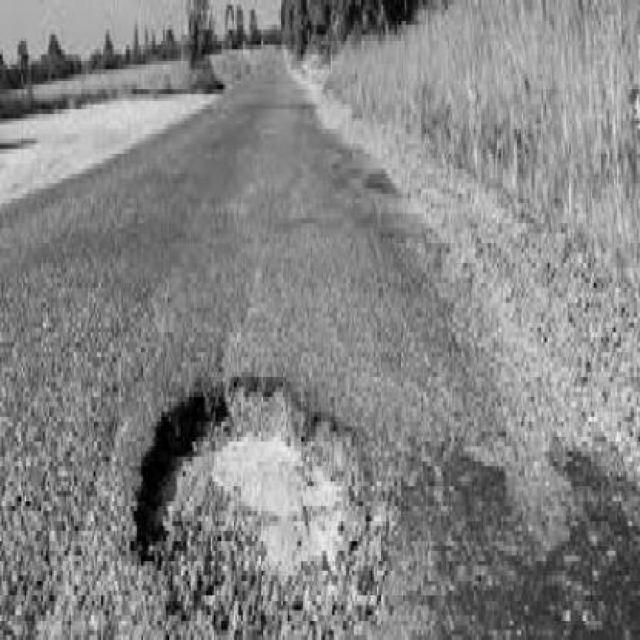pothole: (129, 357, 402, 635)
